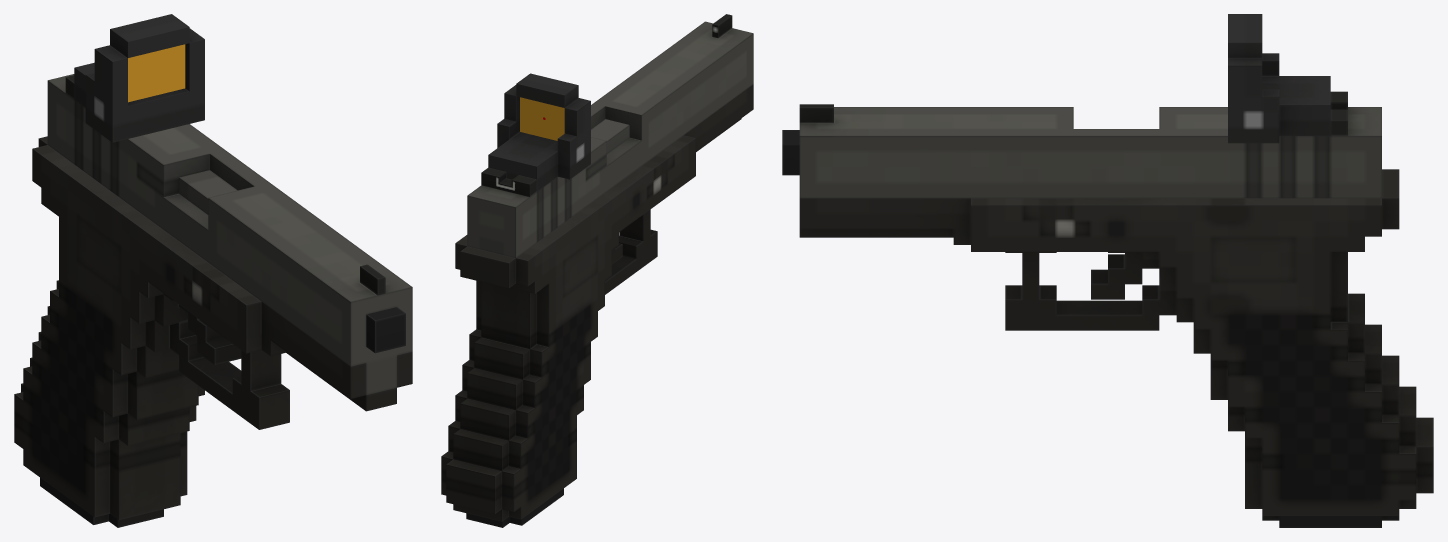
File: RD_GLOCK.glb
3 renders of one model, left to right at view 1: azimuth 30°, elevation 25°; view 2: azimuth 150°, elevation 25°; view 3: azimuth 270°, elevation 25°, orthographic. The views are drawn at different scales.
Visible parts, largest first — view 1: GLOCK17, GLOCK17_FRAME, SCOPE_TRIJICON, GLOCK17_CLIP; view 2: GLOCK17, GLOCK17_FRAME, SCOPE_TRIJICON, GLOCK17_CLIP; view 3: GLOCK17, GLOCK17_FRAME, SCOPE_TRIJICON, GLOCK17_CLIP.
Part boxes in pixels (x1,y1,x2,y2): GLOCK17: [14, 136, 412, 519]; GLOCK17_FRAME: [47, 74, 412, 394]; SCOPE_TRIJICON: [74, 14, 204, 142]; GLOCK17_CLIP: [40, 477, 163, 527]; GLOCK17: [441, 84, 753, 521]; GLOCK17_FRAME: [467, 14, 753, 257]; SCOPE_TRIJICON: [488, 73, 590, 191]; GLOCK17_CLIP: [466, 488, 563, 527]; GLOCK17: [782, 130, 1433, 515]; GLOCK17_FRAME: [799, 91, 1381, 198]; SCOPE_TRIJICON: [1228, 14, 1330, 143]; GLOCK17_CLIP: [1262, 516, 1399, 527].
Bounding box in the file's own units: 0.0591 × 0.3051 × 0.374.
Materials: 3 (3 with a texture image).
